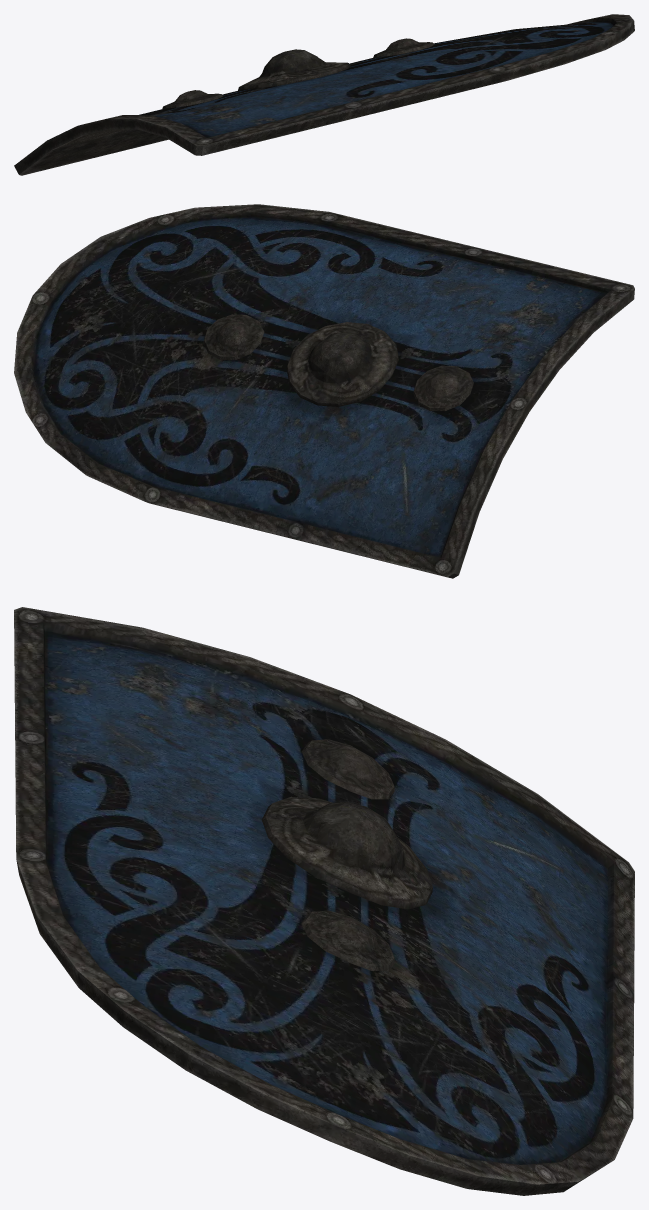
Rendered from ITSH_SHIELD_A_OCEAN.glb.
The picture shows the model from 3 angles, top to bottom: view 1: azimuth 30°, elevation 25°; view 2: azimuth 150°, elevation 25°; view 3: azimuth 270°, elevation 25°; orthographic projection. The views are drawn at different scales.
Visible parts, largest first — view 1: ITSH_SHIELD_A_OCEAN; view 2: ITSH_SHIELD_A_OCEAN; view 3: ITSH_SHIELD_A_OCEAN.
Boxes of the visible parts, left/top/right/bottom form: ITSH_SHIELD_A_OCEAN: left=14, top=14, right=634, bottom=175; ITSH_SHIELD_A_OCEAN: left=14, top=204, right=634, bottom=578; ITSH_SHIELD_A_OCEAN: left=14, top=607, right=634, bottom=1195.
Size of the model in its own units: 0.8574 by 0.2603 by 0.5414.
1 material, 1 textured.
